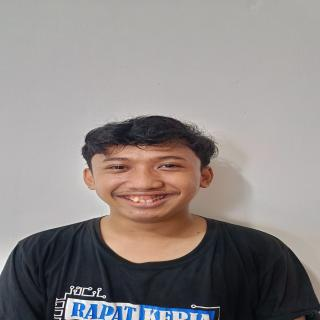Senang: (77, 129, 213, 226)
